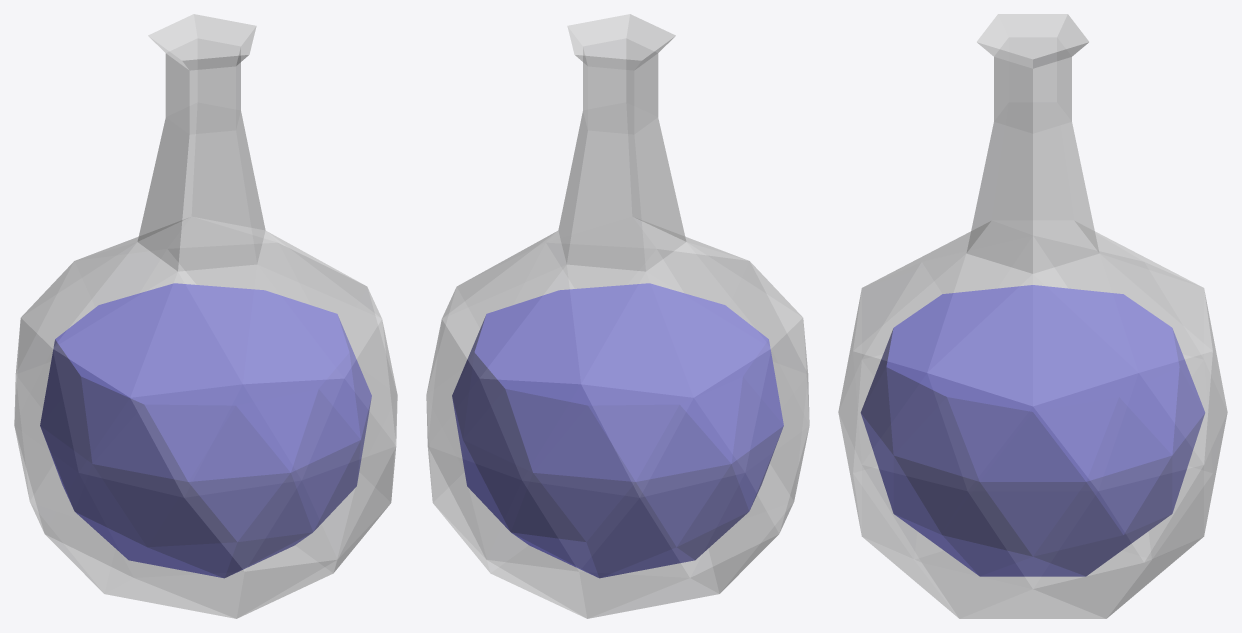
The model's file is butla.glb.
3 renders of one model, left to right at view 1: azimuth 30°, elevation 25°; view 2: azimuth 150°, elevation 25°; view 3: azimuth 270°, elevation 25°, orthographic.
Parts seen in each view (by area): view 1: Icosphere.001, Icosphere; view 2: Icosphere.001, Icosphere; view 3: Icosphere.001, Icosphere.
Boxes of the visible parts, <box> form: Icosphere.001: <box>14,14,397,618</box>; Icosphere: <box>40,283,371,578</box>; Icosphere.001: <box>426,14,809,618</box>; Icosphere: <box>452,283,783,578</box>; Icosphere.001: <box>838,14,1227,618</box>; Icosphere: <box>861,285,1204,576</box>.
Bounding box in the file's own units: 0.239 × 0.3759 × 0.2459.
